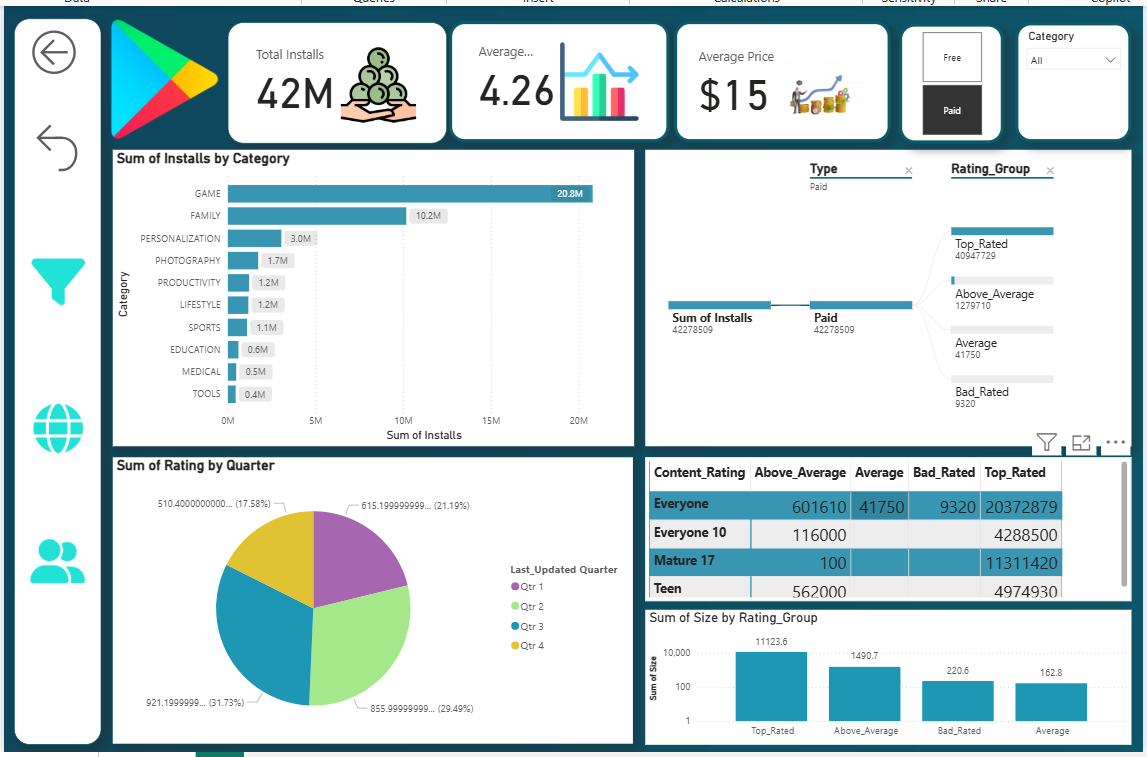

The dashboard page shown, as its layout file describes it:
{"tool":"powerbi","page":{"name":"Overview","canvas":[1450,950],"ordinal":0},"visuals":[{"type":"shape","box":[284.9,20.8,279,154.5],"z":0,"group":"g1"},{"type":"shape","box":[12.7,15.9,111.4,924.9],"z":0},{"type":"shape","box":[567.2,19.1,280.7,154.5],"z":1000,"group":"g1"},{"type":"group","id":"g1","title":"Group 1","box":[284.9,19.1,843.7,157.6],"z":1000},{"type":"shape","box":[852.8,19.1,275.7,154.5],"z":2000,"group":"g1"},{"type":"cardVisual","fields":{"Data":["Measures_.Total Installs"]},"box":[304,36.6,242,128.9],"z":2000},{"type":"cardVisual","fields":{"Data":["Measures_.Average Rating"]},"box":[587.4,31.8,238.8,128.9],"z":3000},{"type":"cardVisual","fields":{"Data":["Measures_.Average Price"]},"box":[867.5,33.4,245.1,128.9],"z":4000},{"type":"barChart","fields":{"Category":["ps_data.Category","ps_data.Content_Rating"],"Y":["Sum(ps_data.Installs)"]},"box":[138.5,183.1,663.8,377.3],"z":5000},{"type":"decompositionTreeVisual","fields":{"Analyze":["Sum(ps_data.Installs)"],"ExplainBy":["ps_data.Type","ps_data.Rating_Group"]},"box":[816.6,183.1,619.2,377.3],"z":6000},{"type":"pieChart","fields":{"Y":["Sum(ps_data.Rating)"],"Category":["ps_data.Last_Updated.Variation.Date Hierarchy.Quarter","ps_data.Last_Updated.Variation.Date Hierarchy.Month"]},"box":[138.5,574.7,662.2,364.5],"z":7000},{"type":"pivotTable","fields":{"Rows":["ps_data.Content_Rating"],"Columns":["ps_data.Rating_Group"],"Values":["Sum(ps_data.Installs)"]},"box":[816.6,574.7,619.2,183.1],"z":8000},{"type":"actionButton","box":[28.7,23.9,76.4,70],"z":9000},{"type":"slicer","fields":{"Values":["ps_data.Type"]},"box":[1139.8,22.3,133.7,152.8],"z":10000},{"type":"slicer","fields":{"Values":["ps_data.Category"]},"box":[1287.8,20.7,148,152.8],"z":11000},{"type":"columnChart","fields":{"Category":["ps_data.Rating_Group"],"Y":["Sum(ps_data.Size)"]},"box":[816.6,768.9,619.2,171.9],"z":12000},{"type":"image","box":[124.2,11.1,160.8,164],"z":13000},{"type":"image","box":[30.2,312,78,78],"z":14000},{"type":"image","box":[30.2,501.4,78,73.2],"z":15000},{"type":"image","box":[28.7,667,79.6,79.6],"z":16000},{"type":"actionButton","box":[30.2,143.3,76.4,74.8],"z":17000}]}

Visuals, with their boxes in screenshot pixels (x1, y1, x2, y2):
shape: detection(225, 22, 443, 143)
shape: detection(13, 18, 100, 740)
shape: detection(445, 21, 664, 141)
"Group 1" group: detection(225, 21, 883, 144)
shape: detection(668, 21, 883, 141)
cardVisual - Measures_.Total Installs: detection(240, 35, 429, 135)
cardVisual - Measures_.Average Rating: detection(461, 31, 647, 131)
cardVisual - Measures_.Average Price: detection(680, 32, 871, 133)
barChart - ps_data.Category x ps_data.Content_Rating: detection(111, 149, 629, 443)
decompositionTreeVisual - Sum(ps_data.Installs) x ps_data.Type: detection(640, 149, 1123, 443)
pieChart - Sum(ps_data.Rating) x ps_data.Last_Updated.Variation.Date Hierarchy.Quarter: detection(111, 454, 628, 739)
pivotTable - ps_data.Content_Rating x ps_data.Rating_Group: detection(640, 454, 1123, 597)
actionButton: detection(25, 25, 85, 79)
slicer - ps_data.Type: detection(892, 23, 996, 143)
slicer - ps_data.Category: detection(1008, 22, 1123, 141)
columnChart - ps_data.Rating_Group x Sum(ps_data.Size): detection(640, 606, 1123, 740)
image: detection(100, 15, 225, 143)
image: detection(27, 249, 87, 310)
image: detection(27, 397, 87, 454)
image: detection(25, 526, 87, 588)
actionButton: detection(27, 118, 86, 176)
